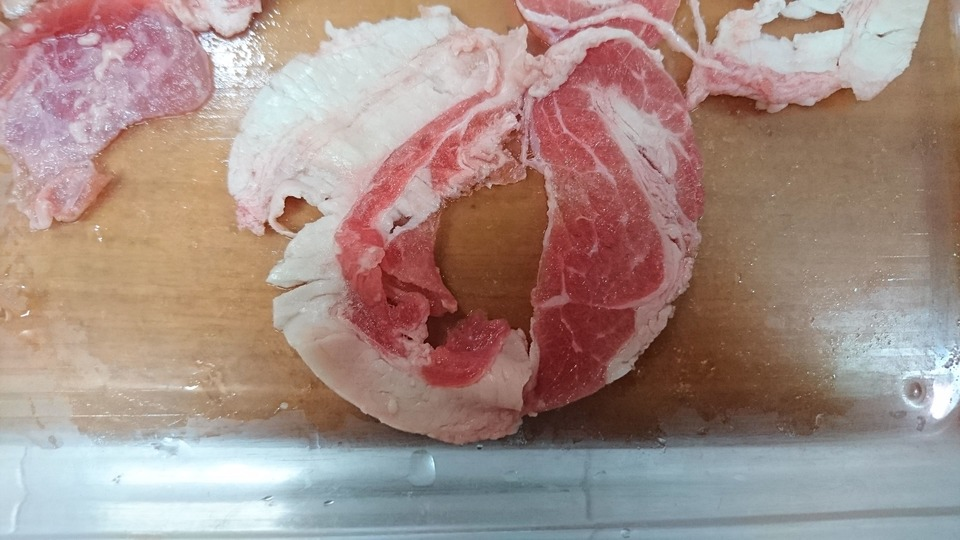restructured meat: (232, 22, 706, 438)
